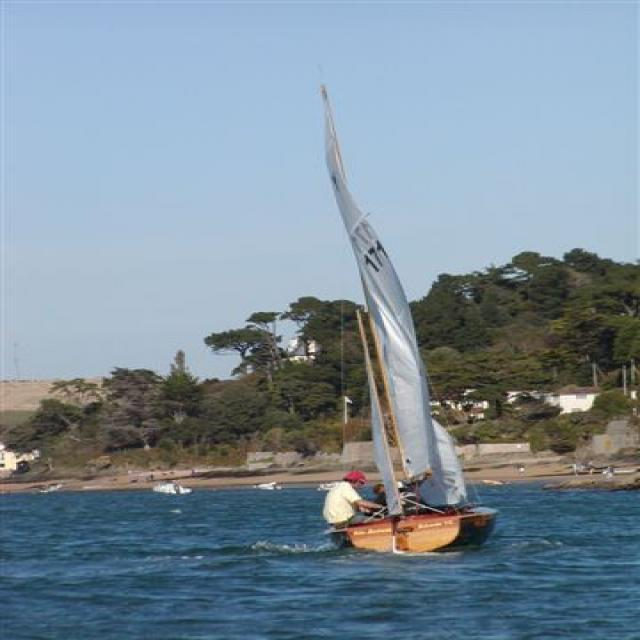Ship: (261, 84, 514, 555)
